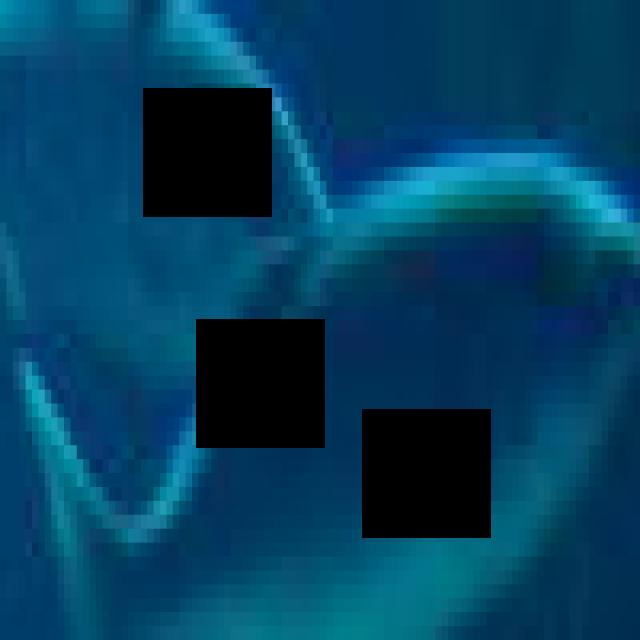fish: (6, 14, 640, 640)
